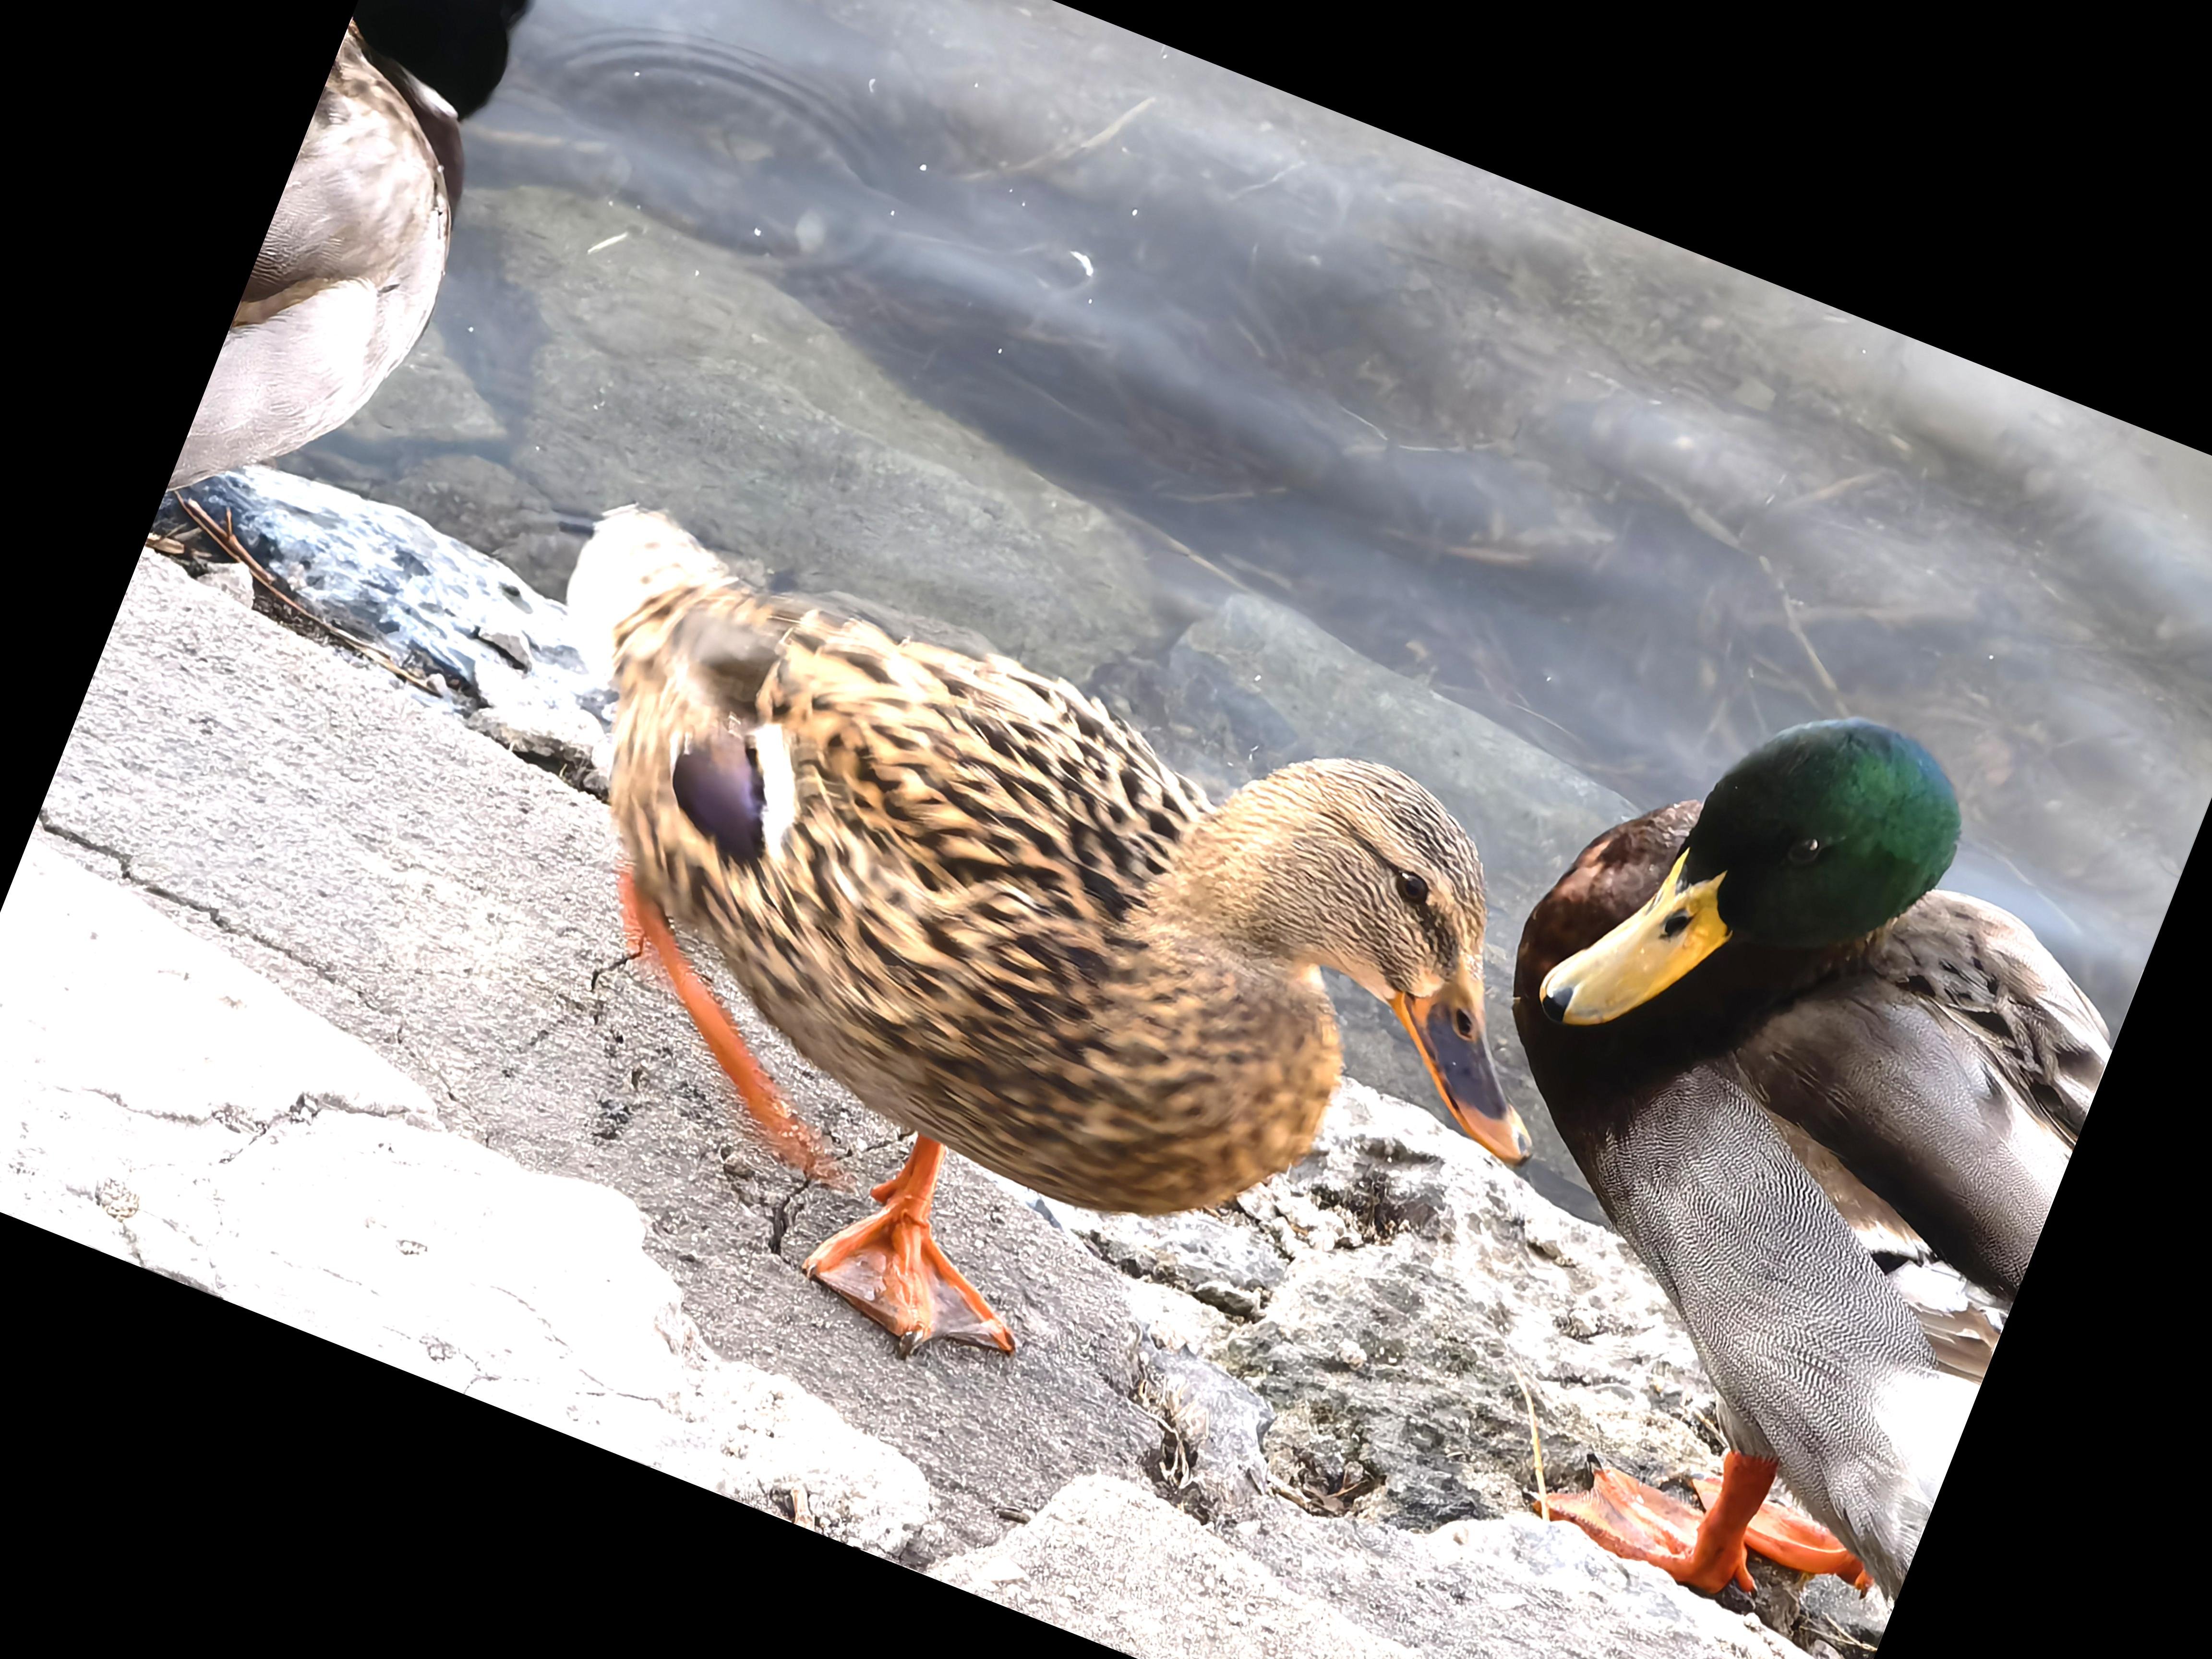duck: (338, 349, 1695, 1516), (1308, 559, 2212, 1659), (165, 0, 644, 582)
